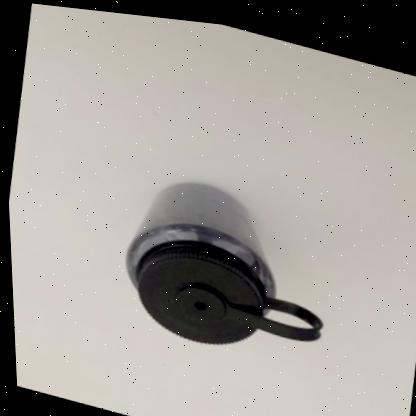Plastic: (122, 178, 318, 339)
